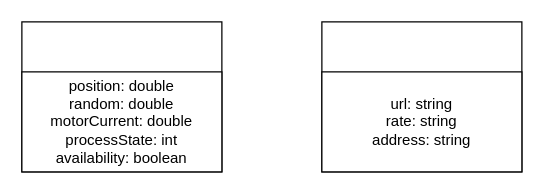
Image size: 544x194. Some labels were removed from this diagram. Each missing label, with the box of its shape:
<<Functionblock>> SimulatedPlcTwo: (21, 21, 222, 172)
<<Mapping>> SimulatedPlc: (321, 21, 522, 172)
